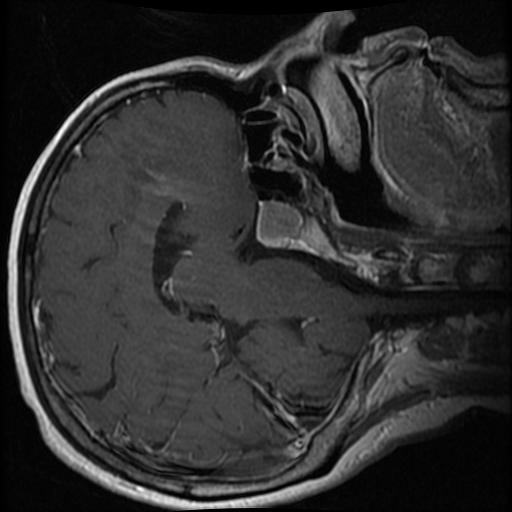pituitary tumour: (257, 202, 300, 247)
